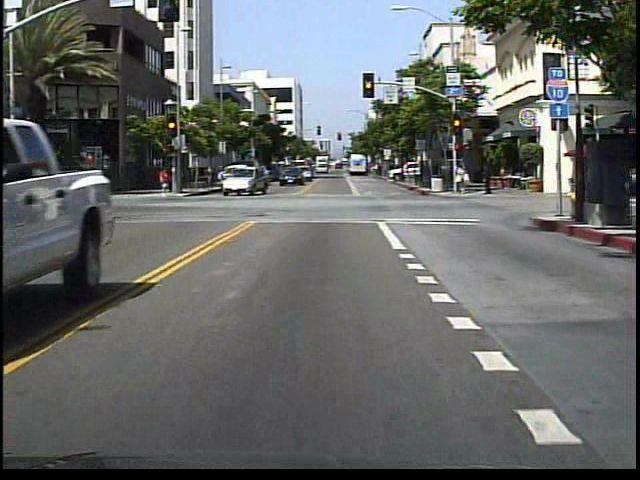person: (454, 160, 470, 198), (480, 160, 495, 196), (160, 165, 174, 196)
